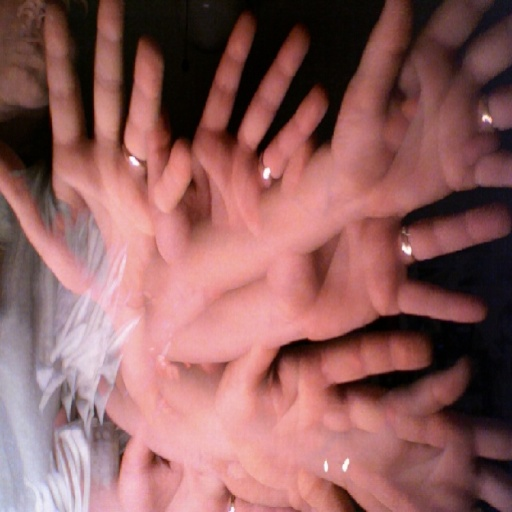hand: (0, 0, 193, 309), (142, 11, 330, 287), (261, 139, 511, 343), (330, 0, 511, 220), (208, 333, 432, 510), (347, 356, 511, 510), (51, 396, 122, 510), (113, 436, 184, 510)
